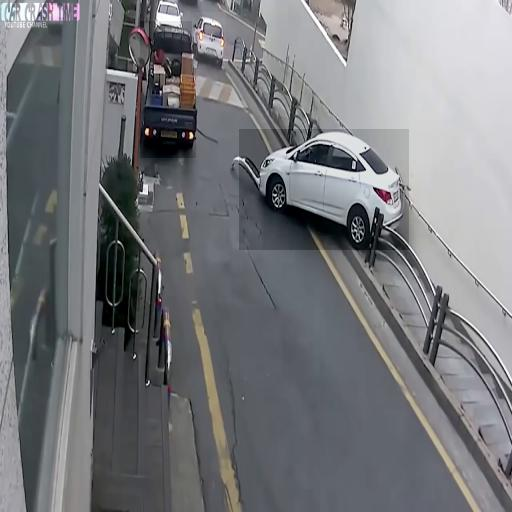小汽车: (140, 21, 196, 158), (192, 12, 226, 68)
小汽车撞物: (239, 129, 409, 250)
